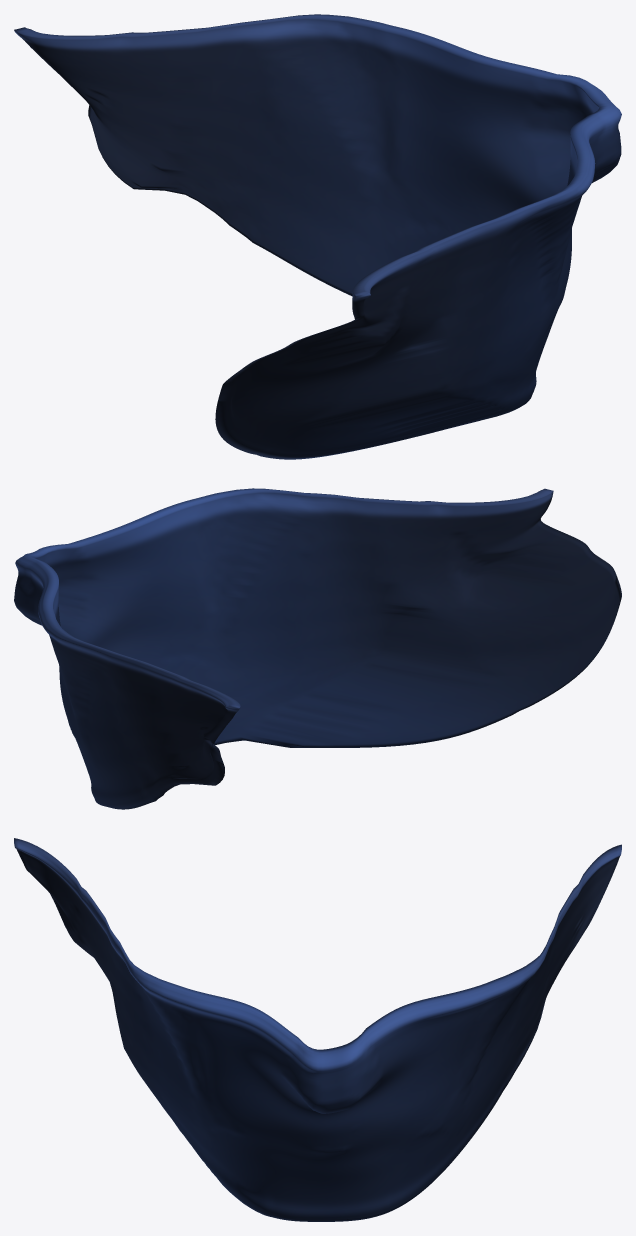
Rendered from side_hagane_portrait_death_mask.glb.
3 views of the same model, one above another, from view 1: azimuth 30°, elevation 25°; view 2: azimuth 150°, elevation 25°; view 3: azimuth 270°, elevation 25° (orthographic). The views are drawn at different scales.
Parts seen in each view (by area): view 1: geometry_0; view 2: geometry_0; view 3: geometry_0.
Part boxes in pixels (x1,y1,x2,y2): geometry_0: (14,14,621,459); geometry_0: (14,488,621,809); geometry_0: (14,838,621,1221).
Bounding box in the file's own units: 11.01 × 5.52 × 12.36.
Materials: 1 (1 with a texture image).
